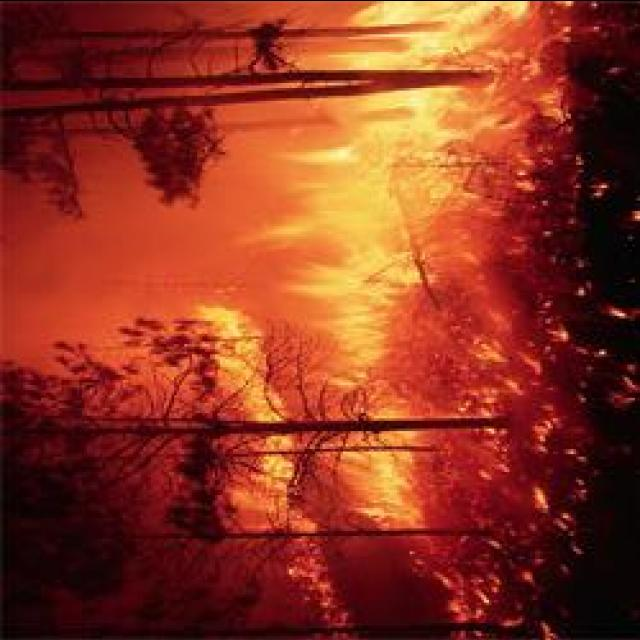fire: (303, 91, 462, 308), (355, 0, 523, 60), (360, 440, 418, 520)
smoke: (144, 136, 332, 258)
